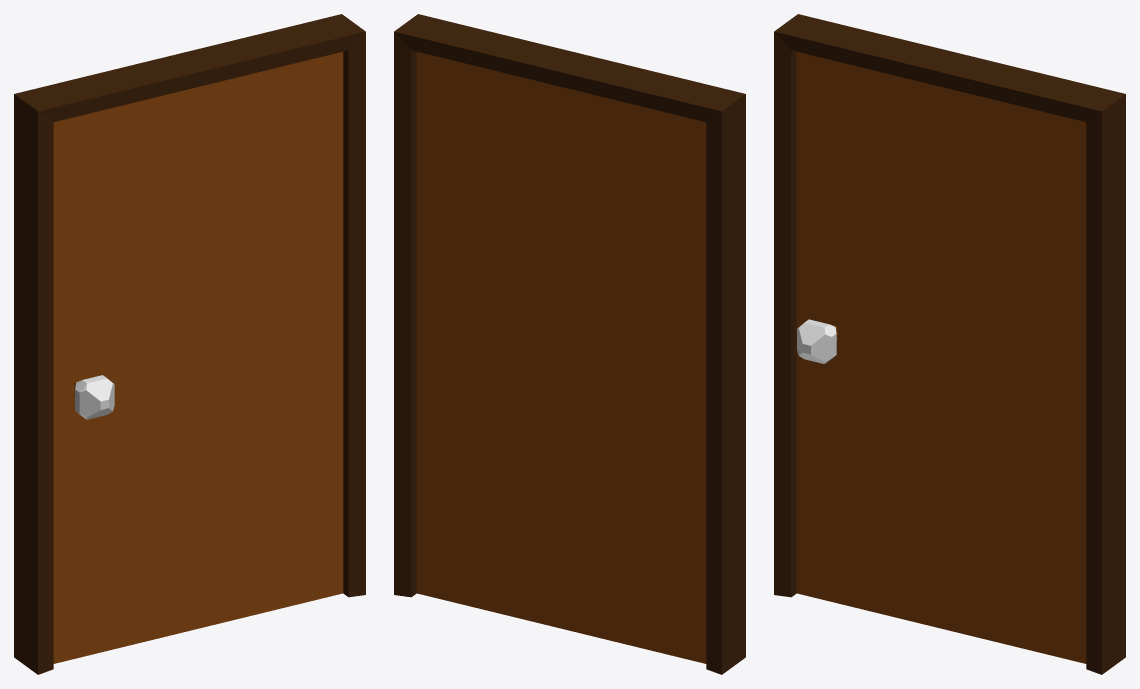
Rendered from Door.fbx.
3 views of the same model, side by side, from view 1: azimuth 30°, elevation 25°; view 2: azimuth 150°, elevation 25°; view 3: azimuth 330°, elevation 25° (orthographic).
Visible parts, largest first — view 1: Door; view 2: Door; view 3: Door.
Boxes of the visible parts, x1,y1,x2,y2 form: Door: (14, 14, 365, 674); Door: (394, 14, 745, 674); Door: (774, 14, 1125, 674).
Bounding box in the file's own units: 271 × 445 × 58.7.
